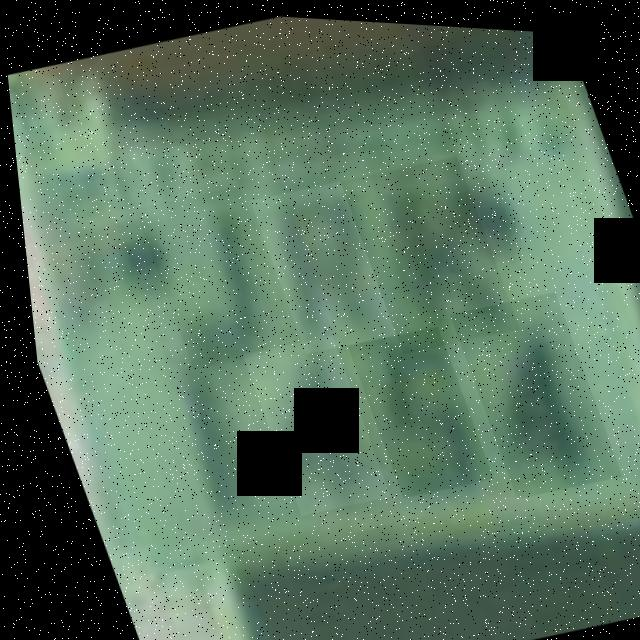4: (441, 280, 615, 497), (233, 327, 382, 516)
5: (338, 317, 485, 498)
J: (127, 177, 294, 372)
N: (334, 145, 516, 354)
R: (244, 173, 391, 354)
